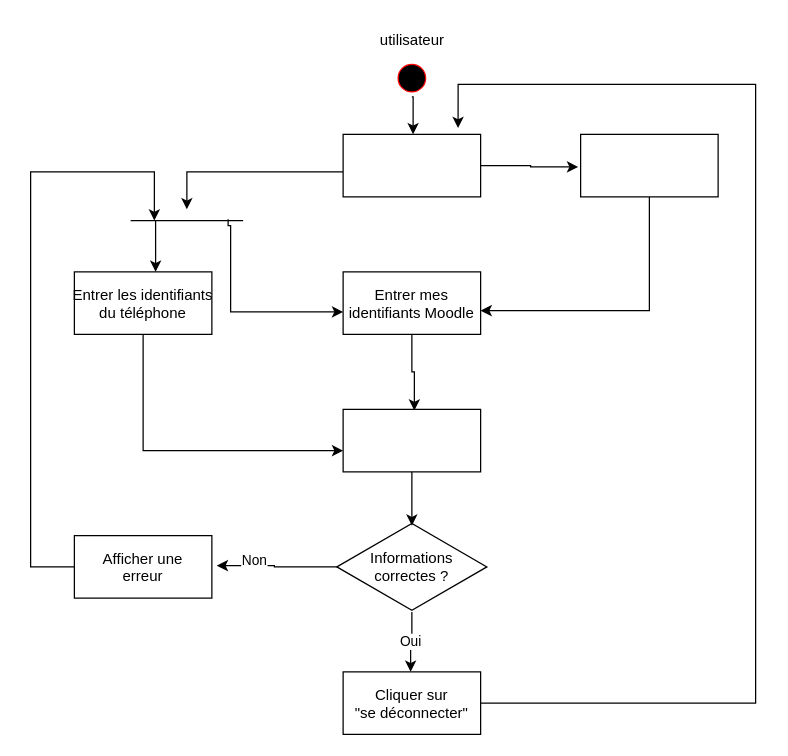
Some shapes in this 788 by 756 pixel diagram are drawn without their labels. Each missing label, with the centre of its shape:
Aller dans Balabox: point 411,165
Cliquer sur "Je suis professeur": point 648,165
Cloquer sur le bouton "Connexion": point 411,440
